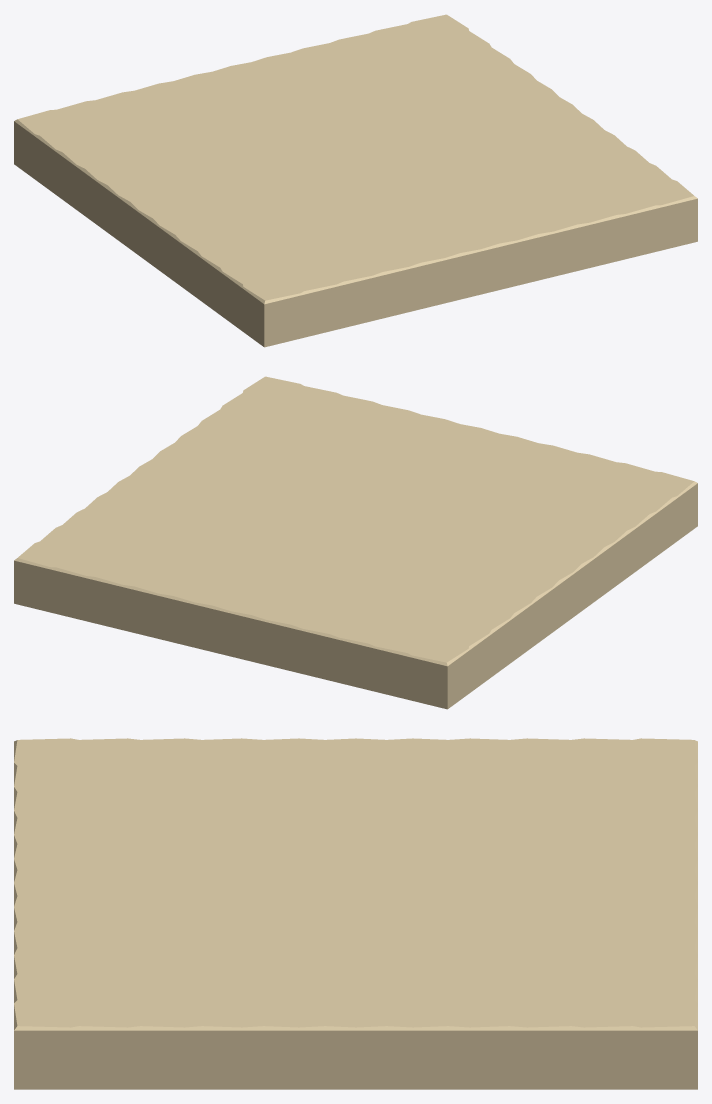
File: mahsulot.glb
The picture shows the model from 3 angles, top to bottom: view 1: azimuth 30°, elevation 25°; view 2: azimuth 150°, elevation 25°; view 3: azimuth 270°, elevation 25°; orthographic projection. The views are drawn at different scales.
Parts seen in each view (by area): view 1: mahsulot_A; view 2: mahsulot_A; view 3: mahsulot_A.
Part boxes in pixels (x1,y1,x2,y2): mahsulot_A: (14,14,697,347); mahsulot_A: (14,376,697,709); mahsulot_A: (14,738,697,1089).
Bounding box in the file's own units: 0.3 × 0.03 × 0.3.
